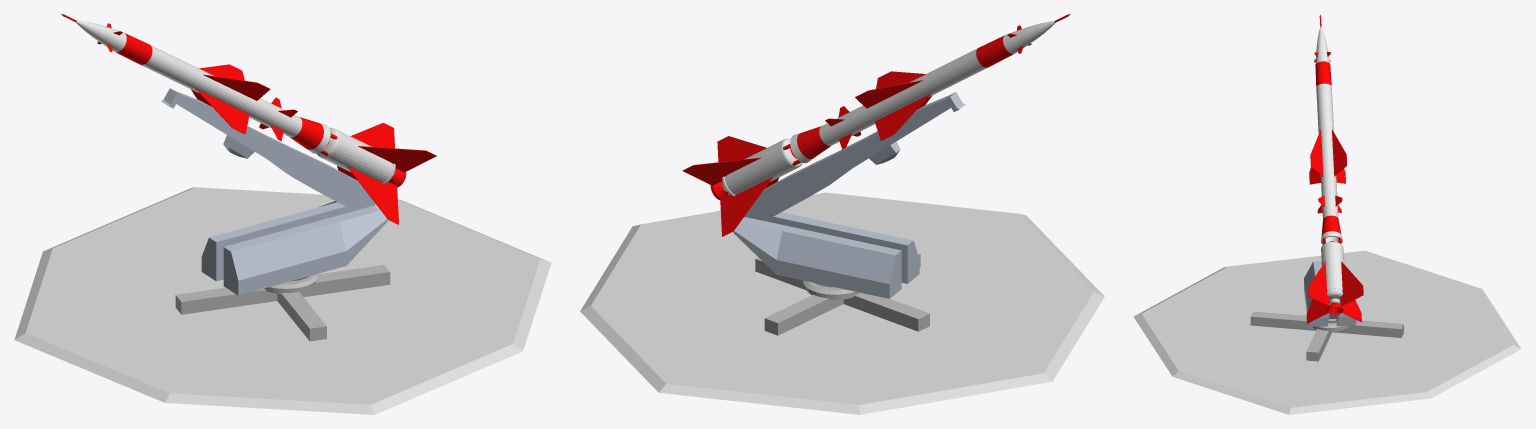
The model's file is SAM AKA ROCKET RAMP.fbx.
3 renders of one model, left to right at view 1: azimuth 30°, elevation 25°; view 2: azimuth 150°, elevation 25°; view 3: azimuth 270°, elevation 25°, orthographic. The views are drawn at different scales.
Parts seen in each view (by area): view 1: Bottom, Turret, Rocket, Launcher; view 2: Bottom, Turret, Rocket, Launcher; view 3: Bottom, Rocket, Launcher, Turret.
Boxes of the visible parts, x1,y1,x2,y2 form: Bottom: (14, 187, 551, 414); Turret: (161, 88, 387, 295); Rocket: (61, 14, 436, 224); Launcher: (175, 265, 390, 341); Bottom: (580, 192, 1104, 414); Turret: (733, 92, 965, 298); Rocket: (682, 14, 1070, 236); Launcher: (755, 253, 929, 335); Bottom: (1133, 250, 1521, 414); Rocket: (1306, 14, 1363, 323); Launcher: (1250, 311, 1403, 361); Turret: (1304, 261, 1356, 326).
Bounding box in the file's own units: 547 × 376 × 547.
